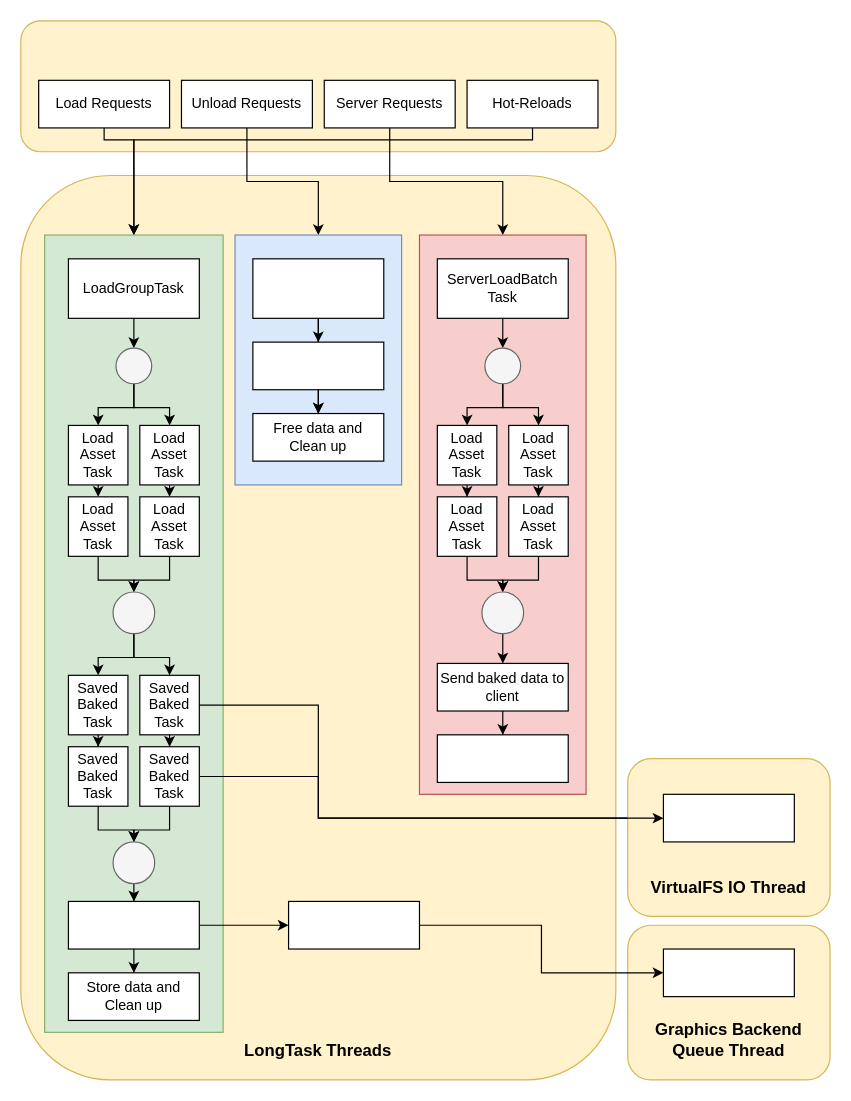
The diagram is 851 pixels wide and 1101 high, and some of its shapes have lost their labels. The box of each missing label's shape, as (x1, y1, x2, y2) in pixels:
Clean up: (436, 734, 568, 782)
Create GPU Objects: (67, 900, 199, 949)
Destroy GPU Objects: (252, 341, 384, 390)
Submit Transfer Commands: (662, 948, 794, 997)
UnloadGroupTask: (252, 258, 384, 318)
Update (Main Thread): (20, 20, 616, 152)
Upload Buffers and Images: (287, 900, 419, 949)
Write File Async: (662, 793, 794, 842)
